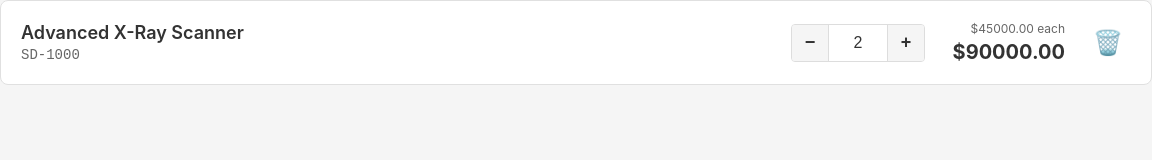
Test: CartItem › Quantity Update Control › should update line total when quantity changes optimistically
Step 1. Click the button named "Increase quantity" → x=906, y=42, box [888,24,924,60]
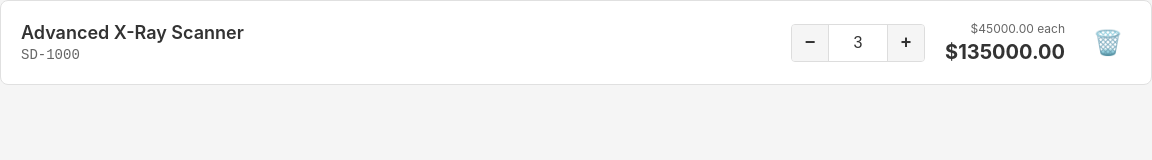
Expected: the text "$135000.00" is shown, [945,40,1065,64]
